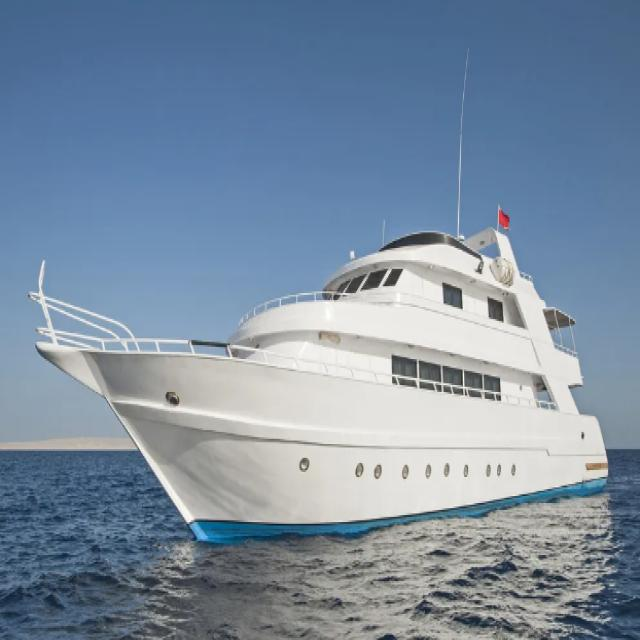houseboat: (19, 175, 630, 545)
